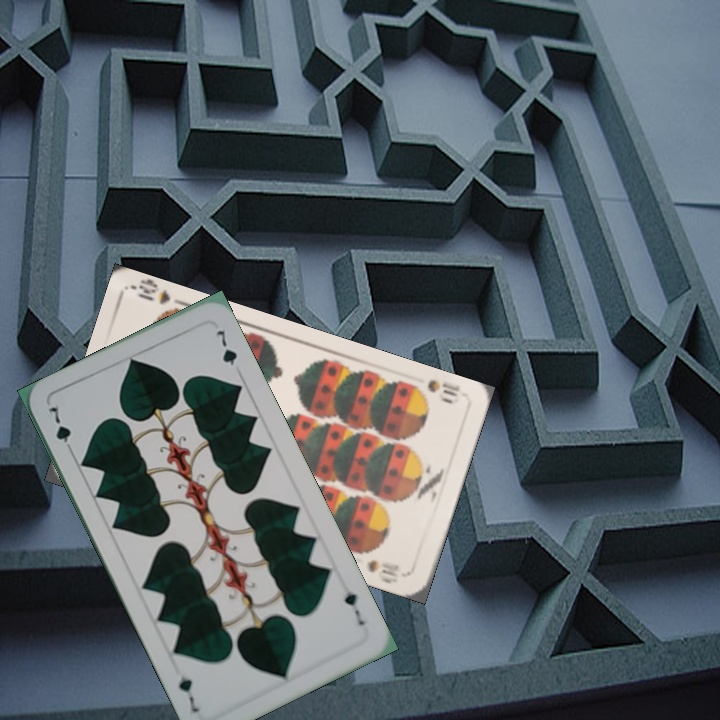G7: (44, 403, 76, 457), (340, 587, 368, 628)
S10: (406, 375, 462, 406)
